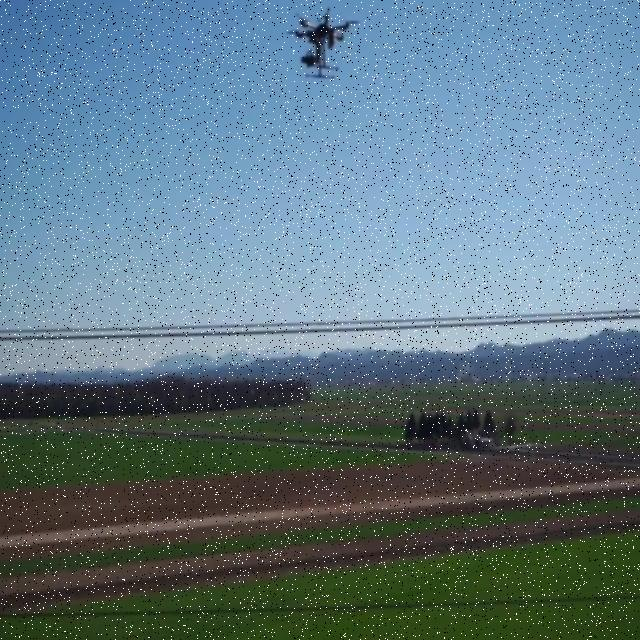UAV: (286, 7, 360, 79)
